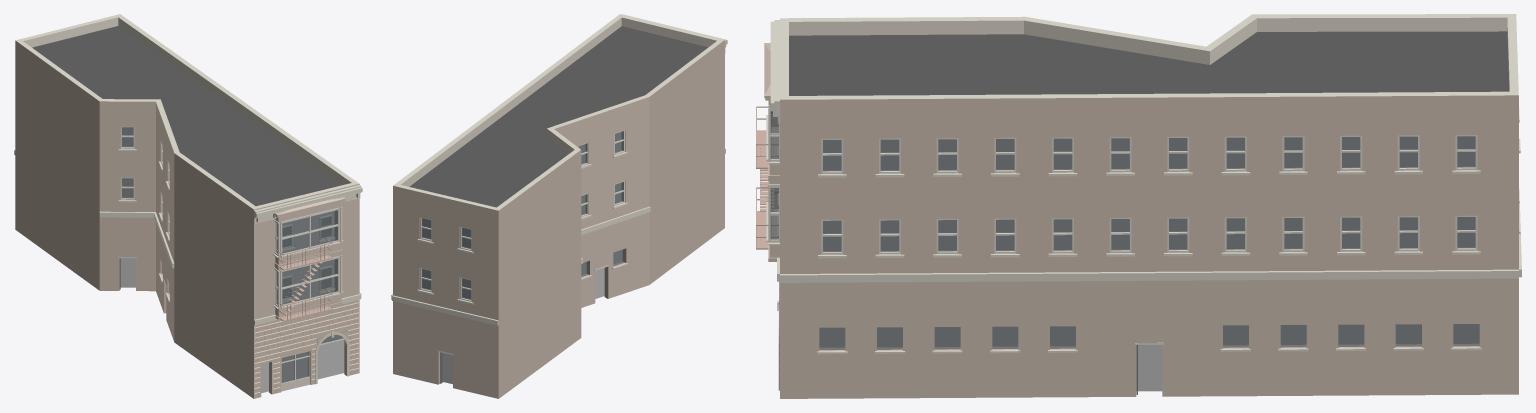
Rendered from exterior.glb.
3 views of the same model, side by side, from view 1: azimuth 30°, elevation 25°; view 2: azimuth 150°, elevation 25°; view 3: azimuth 270°, elevation 25° (orthographic). The views are drawn at different scales.
Parts seen in each view (by area): view 1: shell, roof, shadow-proxy, bay-glazing-hyb, trim, bay-windows-hyb, glazing, hyD-rubble-6, fire-escape, frames, storefront, hyC-arches-6; view 2: shell, roof, shadow-proxy, trim, glazing, frames; view 3: shell, roof, glazing, shadow-proxy, trim, frames, bay-glazing-hyb, fire-escape, bay-windows-hyb.
Part boxes in pixels (left/top/right/bottom): shell: left=15, top=14, right=359, bottom=398; roof: left=32, top=26, right=342, bottom=206; shadow-proxy: left=120, top=127, right=344, bottom=392; bay-glazing-hyb: left=273, top=206, right=343, bottom=308; trim: left=14, top=148, right=362, bottom=325; bay-windows-hyb: left=274, top=196, right=345, bottom=319; glazing: left=122, top=127, right=343, bottom=382; hyD-rubble-6: left=254, top=302, right=358, bottom=396; fire-escape: left=276, top=237, right=332, bottom=321; frames: left=120, top=126, right=332, bottom=299; storefront: left=118, top=257, right=344, bottom=391; hyC-arches-6: left=315, top=331, right=349, bottom=384; shell: left=393, top=14, right=724, bottom=398; roof: left=409, top=26, right=707, bottom=207; shadow-proxy: left=422, top=132, right=622, bottom=384; trim: left=391, top=14, right=727, bottom=325; glazing: left=421, top=131, right=624, bottom=299; frames: left=420, top=130, right=624, bottom=301; shell: left=780, top=14, right=1518, bottom=398; roof: left=789, top=31, right=1509, bottom=95; glazing: left=819, top=136, right=1479, bottom=349; shadow-proxy: left=819, top=136, right=1478, bottom=391; trim: left=770, top=20, right=1521, bottom=354; frames: left=821, top=135, right=1477, bottom=254; bay-glazing-hyb: left=766, top=101, right=779, bottom=245; fire-escape: left=756, top=106, right=778, bottom=249; bay-windows-hyb: left=764, top=43, right=779, bottom=261.
Bounding box in the file's own units: 7.92 × 12.65 × 29.35.
